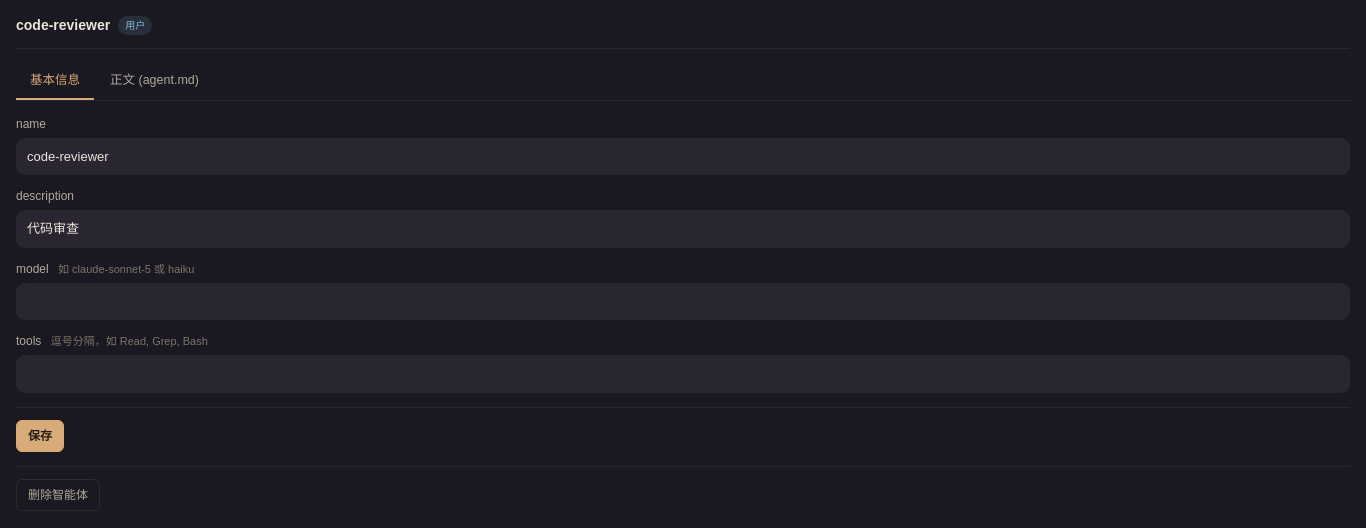
Test: AgentEditor › 正文 tab 加载全文
This screenshot has width=1366, height=528.
What coordinates should you click on to do the following:
click the button "正文 (agent.md)"
I would click on:
 (154, 81)
Its box is [96, 63, 213, 100].
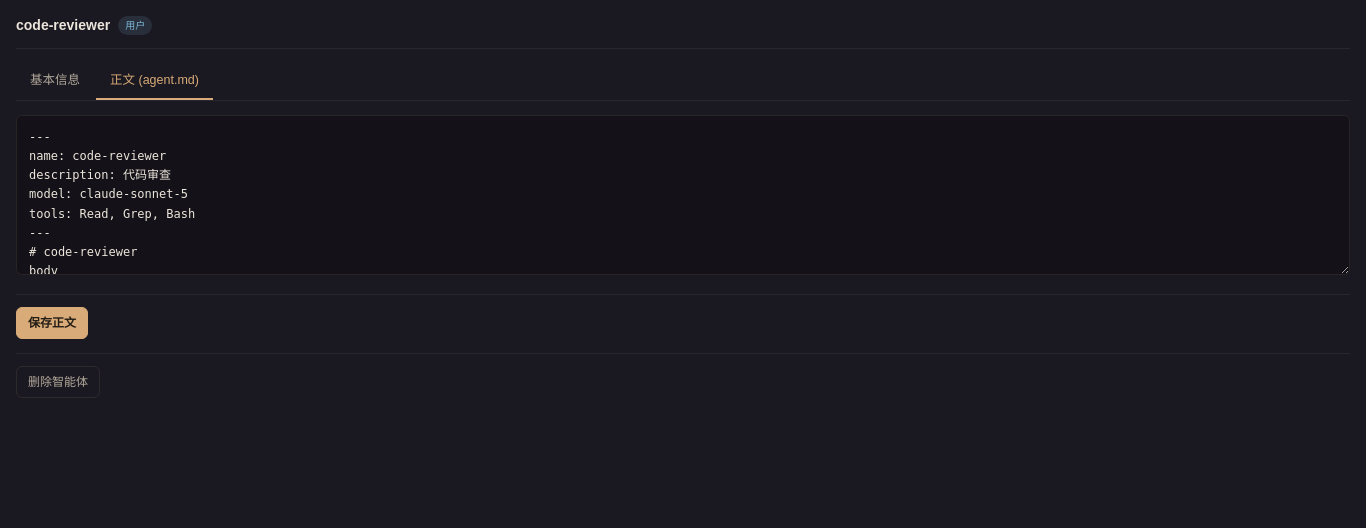
Expected: the text box is shown, [16, 115, 1350, 275]
